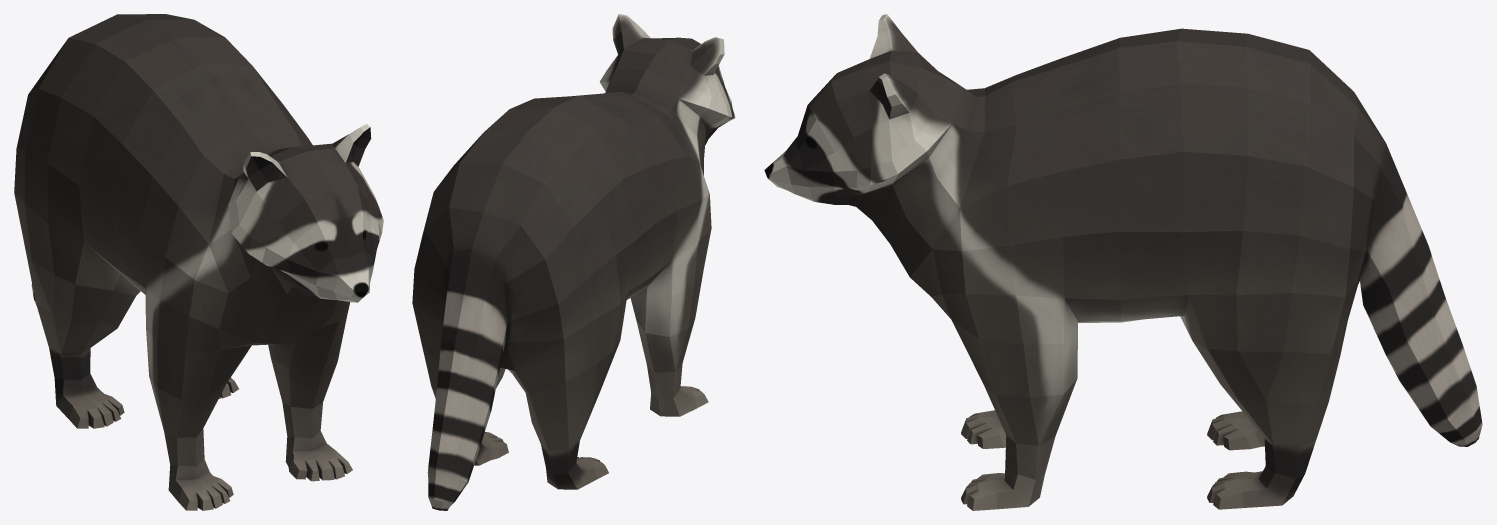
File: raccoon.glb
The picture shows the model from 3 angles, left to right: view 1: azimuth 30°, elevation 25°; view 2: azimuth 150°, elevation 25°; view 3: azimuth 270°, elevation 25°; orthographic projection. The views are drawn at different scales.
Visible parts, largest first — view 1: Raccoon_Mesh; view 2: Raccoon_Mesh; view 3: Raccoon_Mesh.
Boxes of the visible parts, x1,y1,x2,y2 form: Raccoon_Mesh: (14, 14, 383, 510); Raccoon_Mesh: (412, 14, 735, 510); Raccoon_Mesh: (764, 14, 1482, 510).
Bounding box in the file's own units: 1.83 × 3.29 × 5.03.
Materials: 1 (1 with a texture image).
